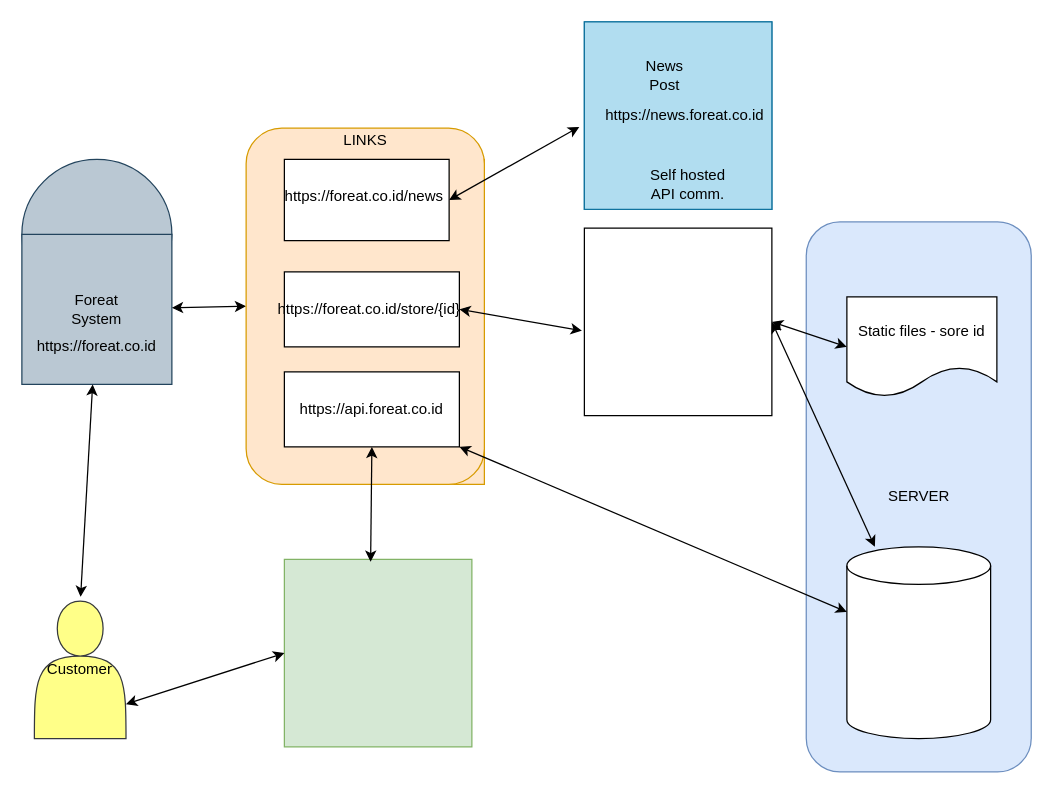
Some shapes in this 1054 by 794 pixel diagram are drawn without their labels. Here are the shapes that lost their labels. From the top down, the centre of each, then its label:
At [677,321]: "Store {id} ex: rodin, shabu, sushi, nama".
At [377,652]: "Mobile Apps. Google play hosted/ Apple hosted".
At [918,642]: "Database".
